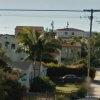Tree: (19, 23, 71, 83)
